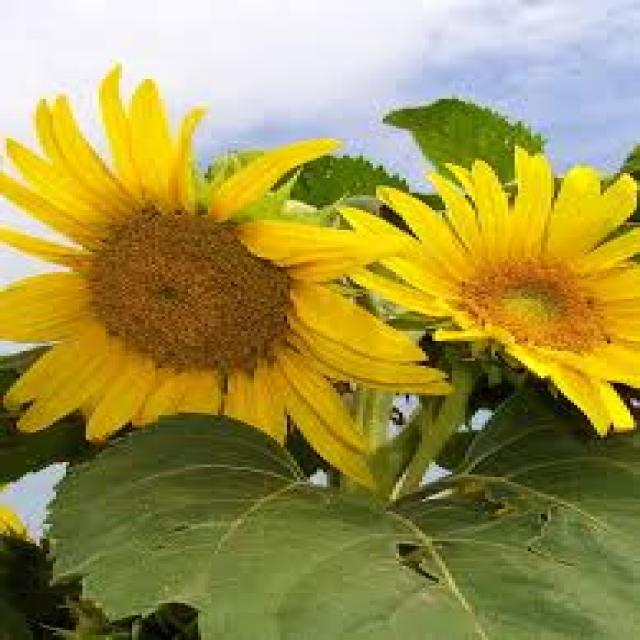sunflower: (2, 49, 462, 514), (307, 126, 640, 440)
